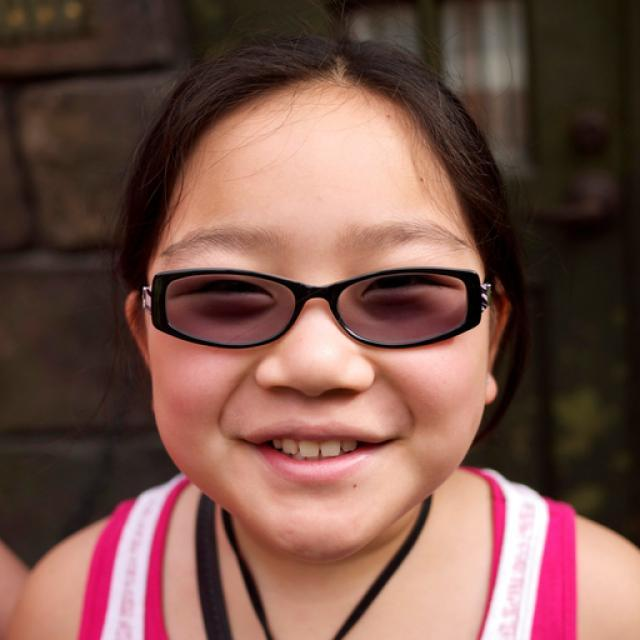happy: (146, 75, 488, 556)
